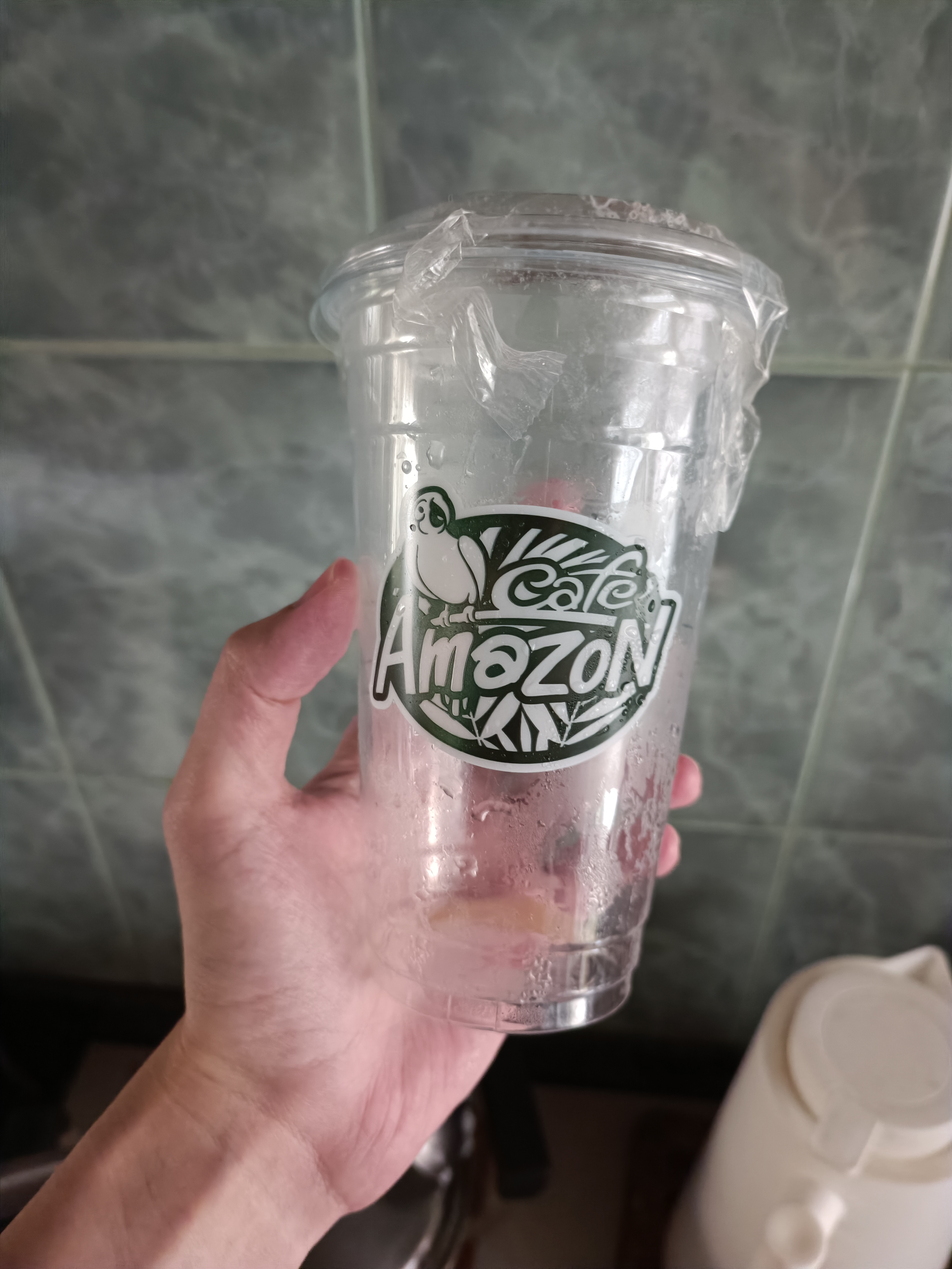plastic: (273, 182, 812, 1039)
